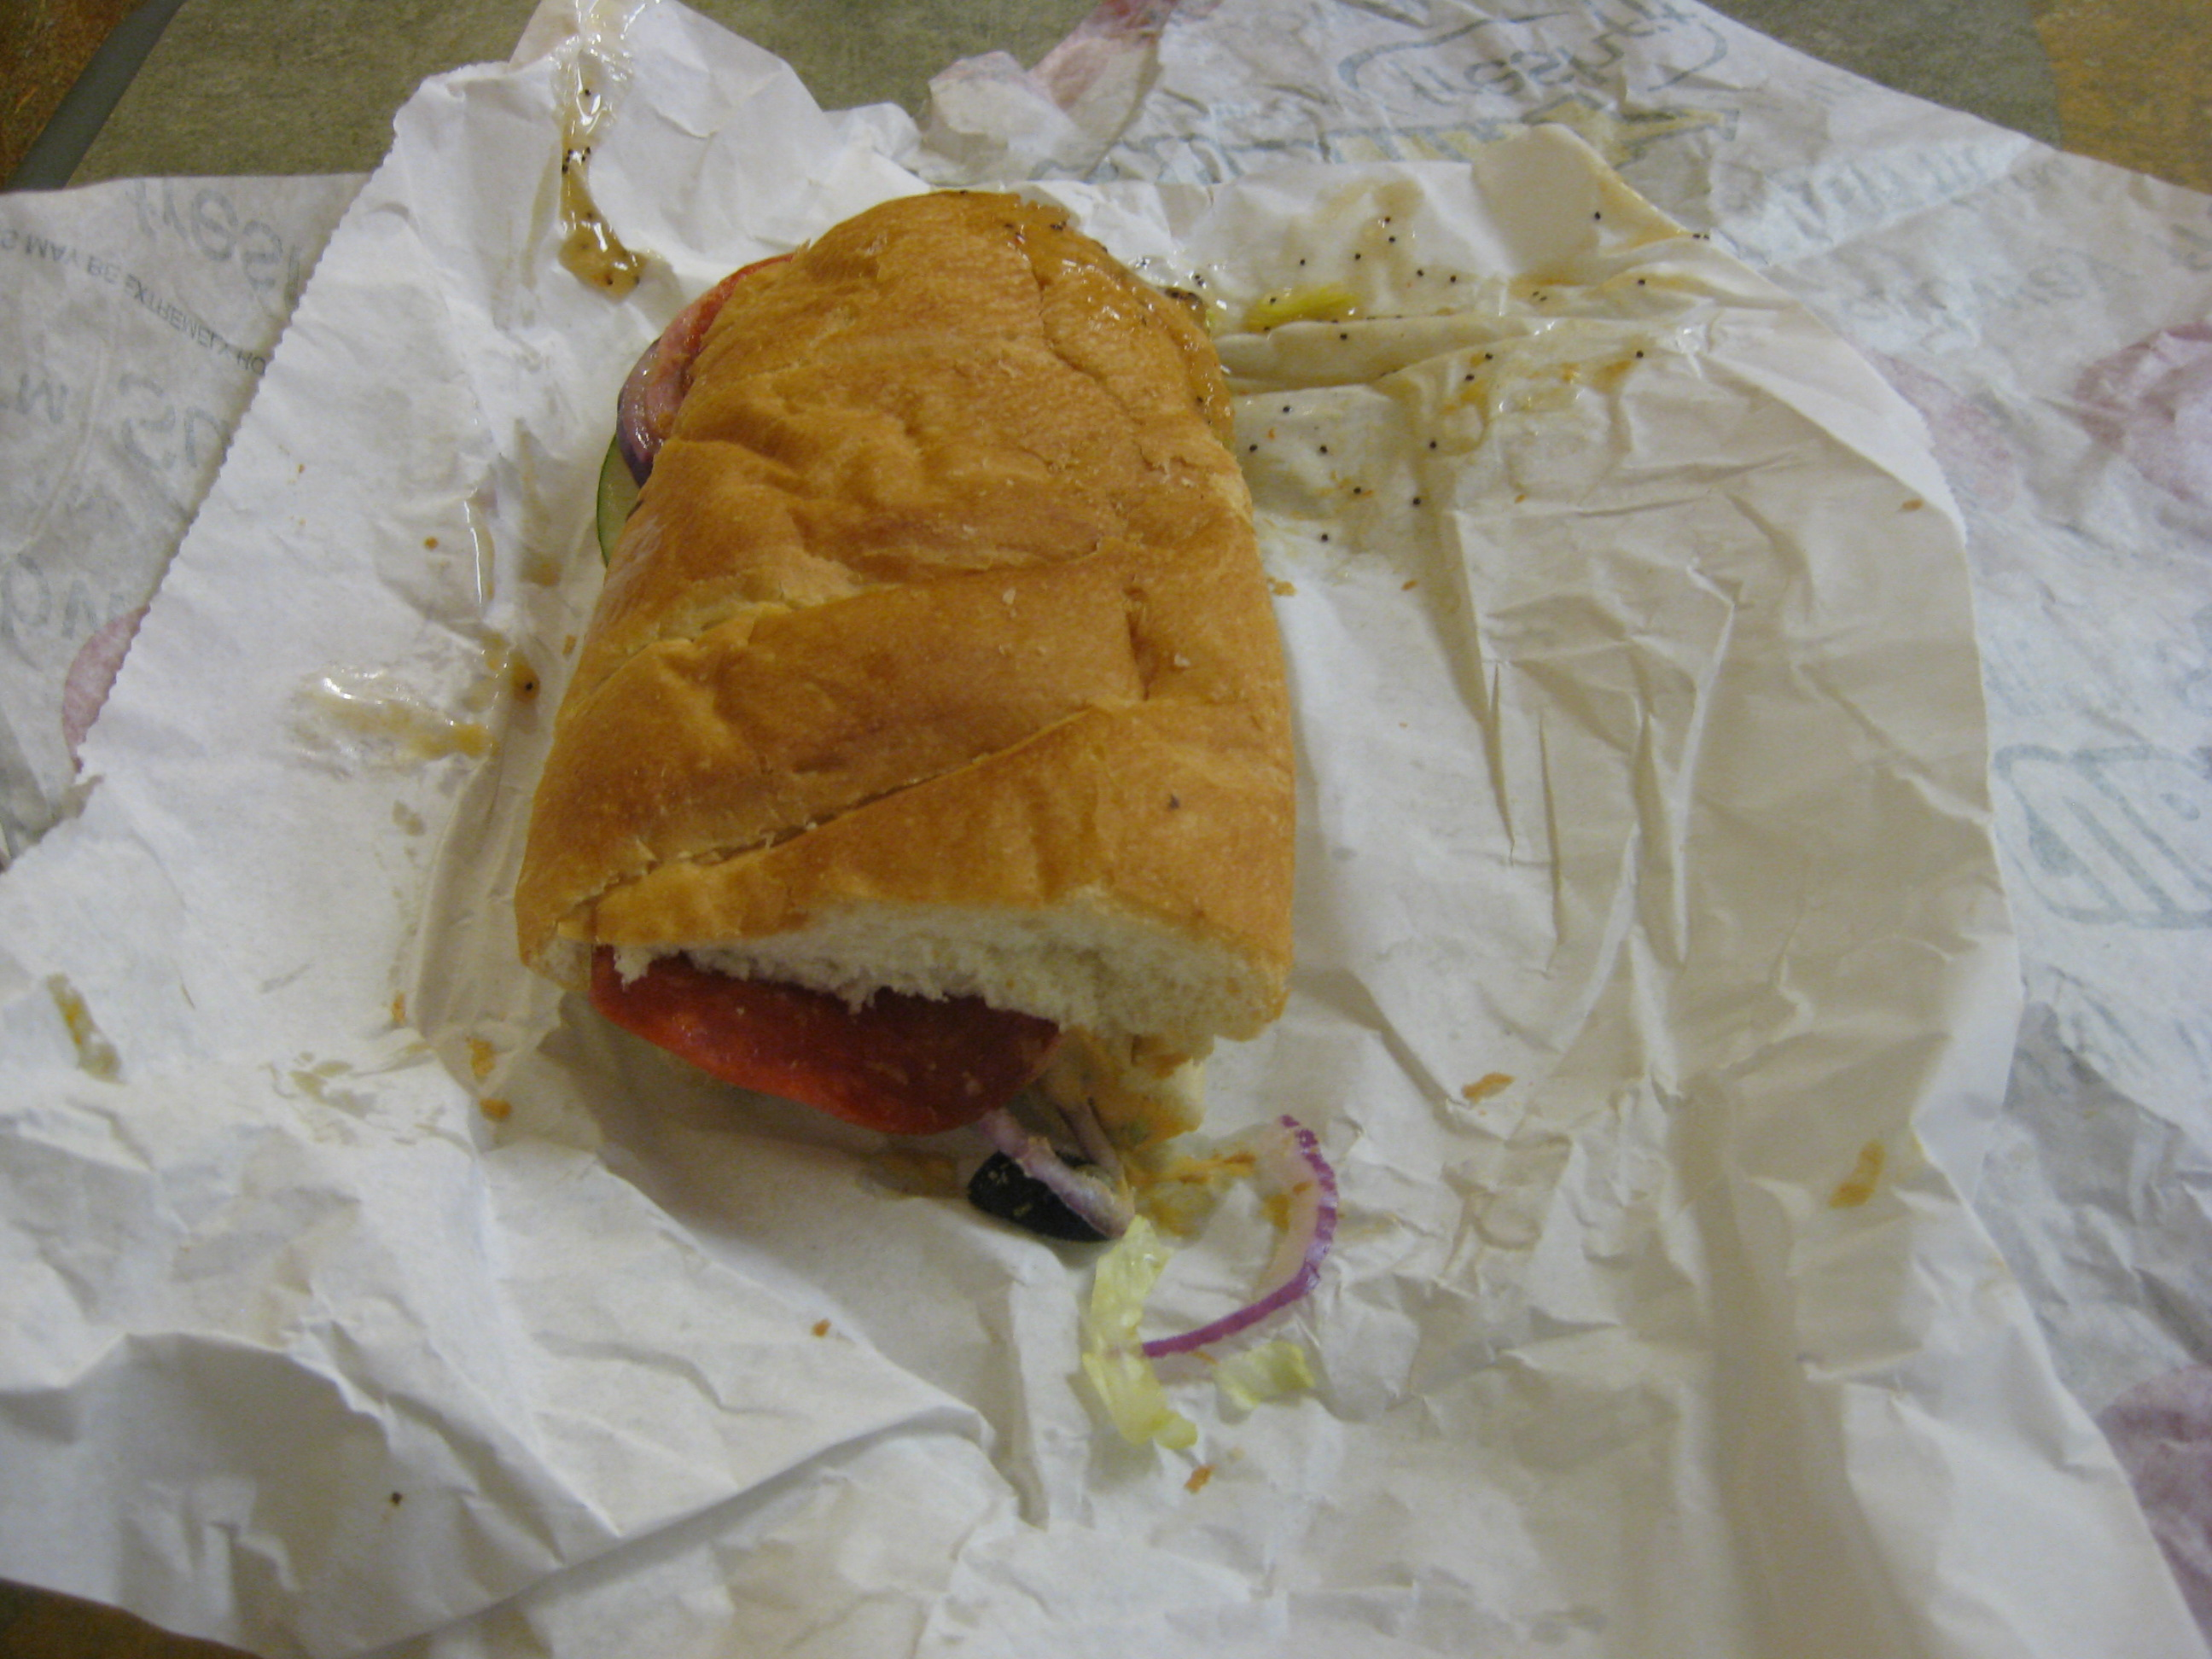sub: (550, 151, 1324, 1178)
